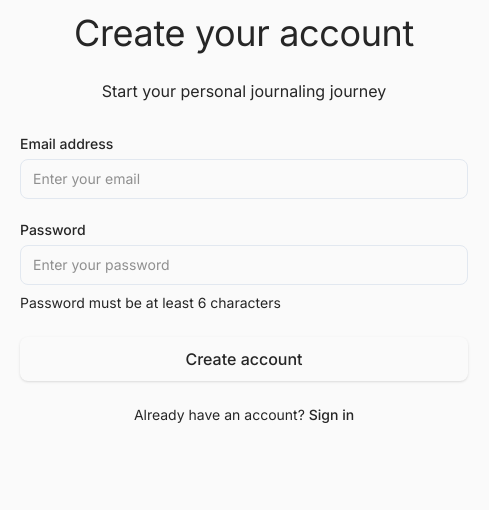
Scenario: AuthForm › Signup Mode › handles successful signup
The width and height of the screenshot is (489, 510).
Type "test@example.com" into the field labelled "Email address".
click(244, 179); type("test@example.com")  # box [20, 159, 468, 199]
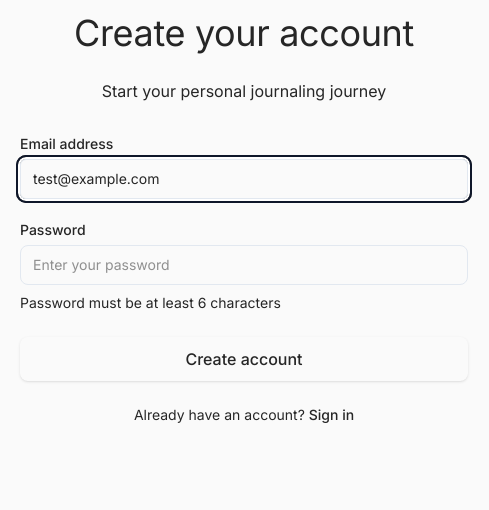
Type "password123" into the password field labelled "Password".
click(244, 265); type("password123")  # box [20, 245, 468, 285]
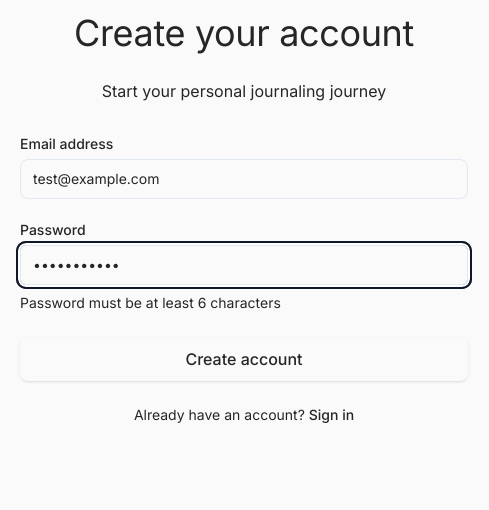
Click the button "Create account".
click(244, 359)  # box [20, 337, 468, 381]
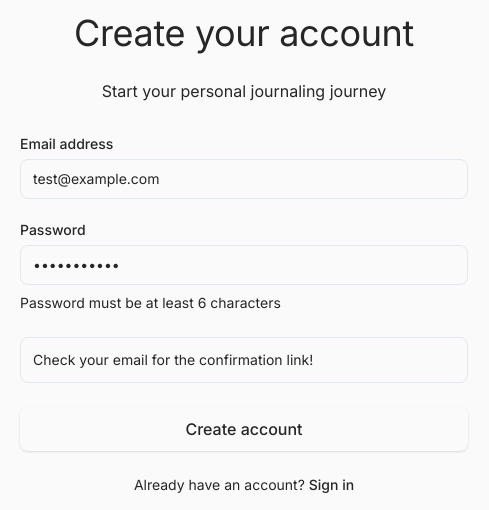
Expected: the text "Check your email for the confirmation link!" is shown, [20, 337, 468, 383]
